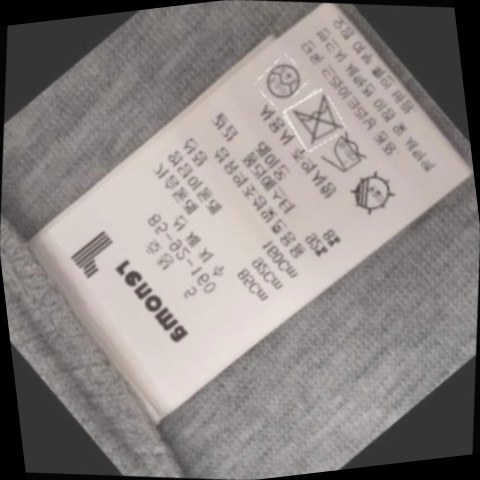DN_wash: (279, 87, 350, 152)
dry_clean_petrol_only: (254, 51, 310, 107)
iron_low: (314, 126, 377, 185)
line_dry_in_shade: (335, 163, 403, 224)
